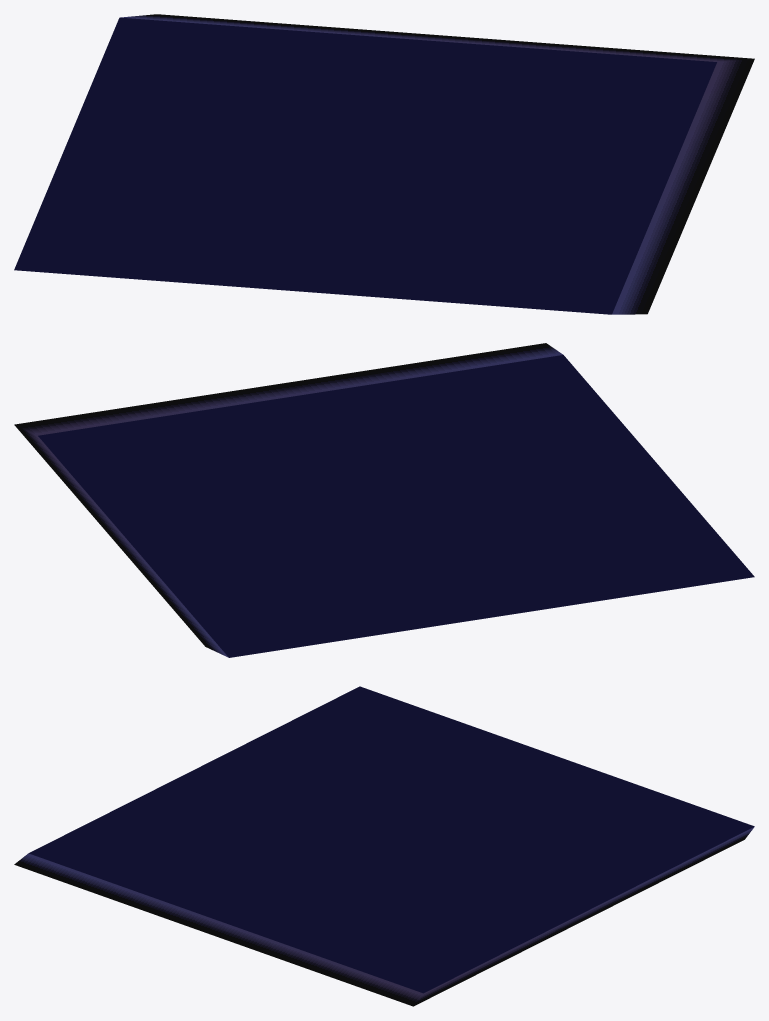
3 renders of one model, top to bottom at view 1: azimuth 30°, elevation 25°; view 2: azimuth 150°, elevation 25°; view 3: azimuth 270°, elevation 25°, orthographic. The views are drawn at different scales.
Parts seen in each view (by area): view 1: Joint_0_Object_0; view 2: Joint_0_Object_0; view 3: Joint_0_Object_0.
Part boxes in pixels (x1=…): Joint_0_Object_0: x1=14, y1=14, x2=754, y2=314; Joint_0_Object_0: x1=14, y1=343, x2=754, y2=657; Joint_0_Object_0: x1=14, y1=686, x2=754, y2=1006.
Size of the model in its own units: 882 by 0 by 862.
1 material, 1 textured.
